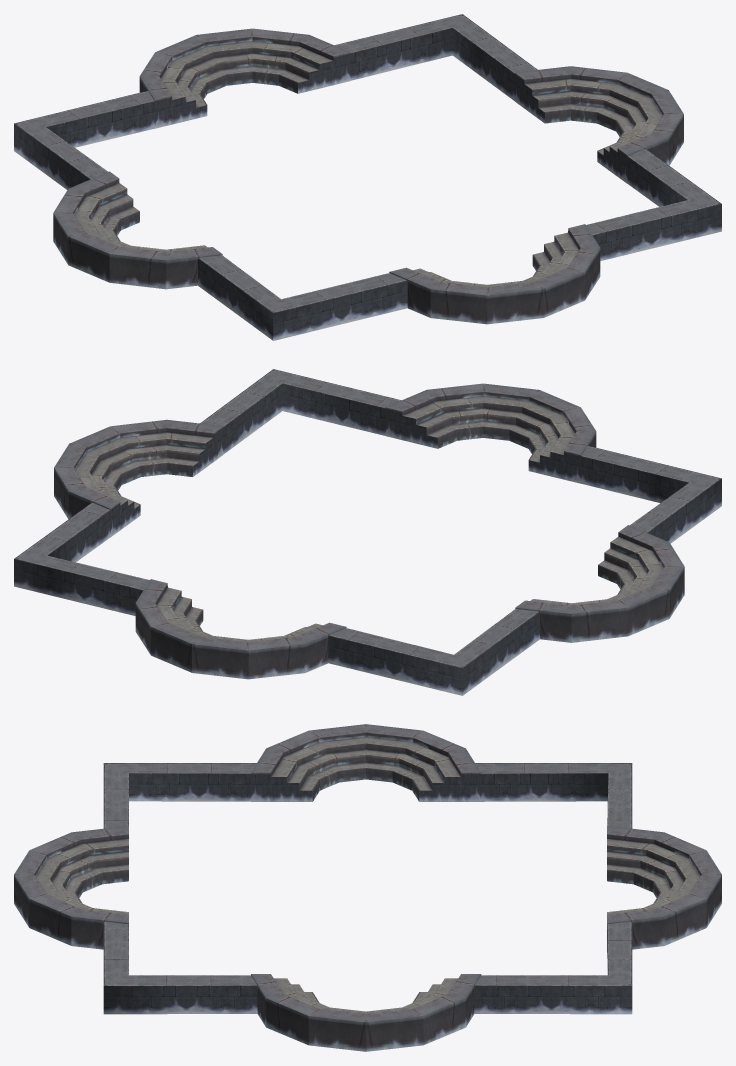
File: yw_anxizhidi_guangchang.FBX
3 views of the same model, one above another, from view 1: azimuth 30°, elevation 25°; view 2: azimuth 150°, elevation 25°; view 3: azimuth 270°, elevation 25° (orthographic).
Parts seen in each view (by area): view 1: yw_anxizhidi_guangchang; view 2: yw_anxizhidi_guangchang; view 3: yw_anxizhidi_guangchang.
Part boxes in pixels (left/top/right/bottom): yw_anxizhidi_guangchang: left=14, top=14, right=721, bottom=340; yw_anxizhidi_guangchang: left=14, top=369, right=721, bottom=695; yw_anxizhidi_guangchang: left=14, top=724, right=721, bottom=1051.
Size of the model in its own units: 2284 by 105 by 2289.
